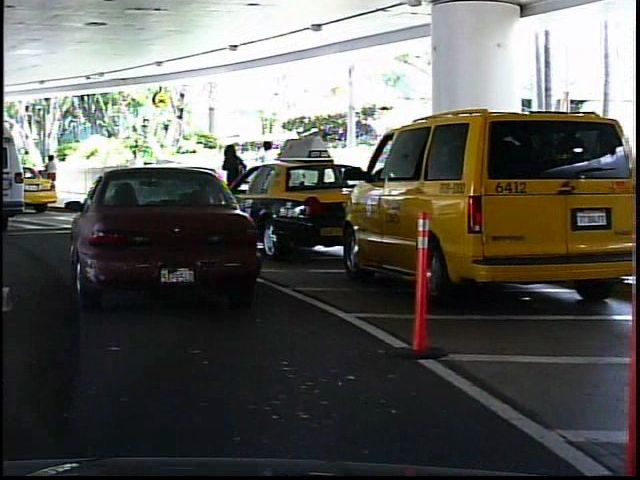person: (217, 139, 251, 213), (255, 137, 282, 212), (122, 143, 147, 204), (41, 151, 63, 198)
